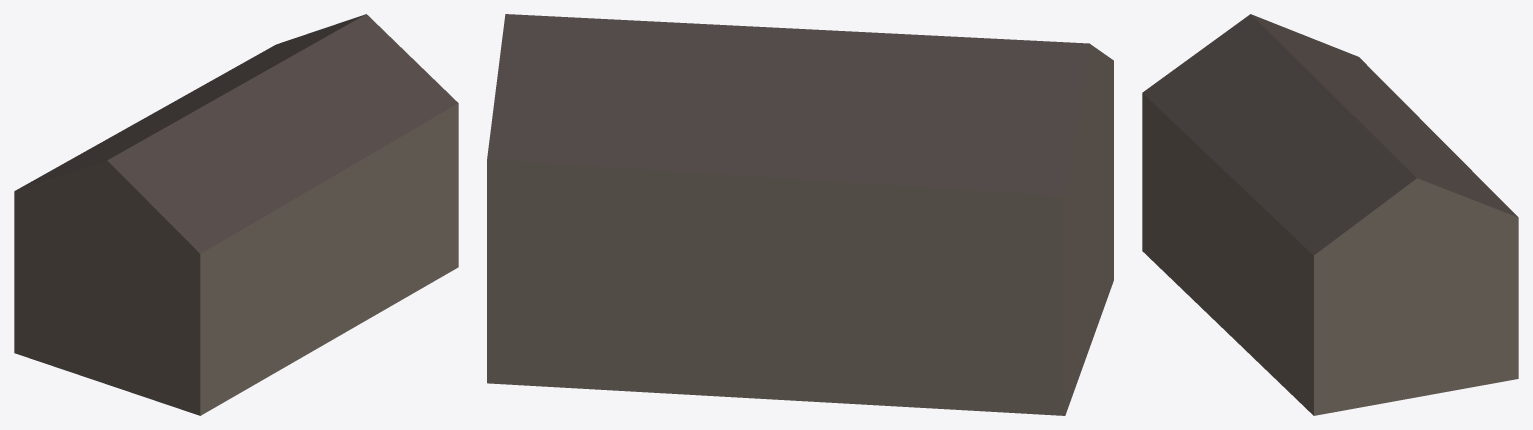
3 renders of one model, left to right at view 1: azimuth 30°, elevation 25°; view 2: azimuth 150°, elevation 25°; view 3: azimuth 270°, elevation 25°, orthographic. The views are drawn at different scales.
Parts seen in each view (by area): view 1: HP-w776800984; view 2: HP-w776800984; view 3: HP-w776800984.
Boxes of the visible parts, <box> form: HP-w776800984: <box>14,14,458,415</box>; HP-w776800984: <box>487,14,1113,415</box>; HP-w776800984: <box>1142,14,1518,415</box>.
Bounding box in the file's own units: 24.51 × 12.46 × 19.41.
